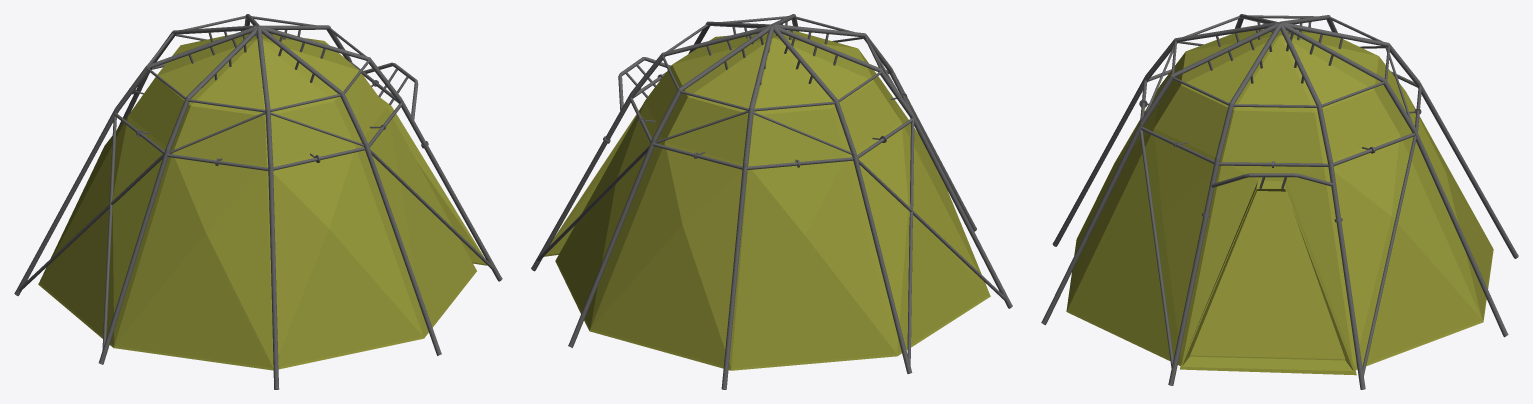
Rendered from tent.fbx.
3 renders of one model, left to right at view 1: azimuth 30°, elevation 25°; view 2: azimuth 150°, elevation 25°; view 3: azimuth 270°, elevation 25°, orthographic. The views are drawn at different scales.
Parts seen in each view (by area): view 1: pCylinder1, polySurface68; view 2: pCylinder1, polySurface68; view 3: pCylinder1, polySurface68.
Part boxes in pixels (bbox=[...]): pCylinder1: bbox=[38, 33, 487, 370]; polySurface68: bbox=[14, 14, 502, 389]; pCylinder1: bbox=[544, 30, 990, 370]; polySurface68: bbox=[531, 14, 1012, 389]; pCylinder1: bbox=[1066, 29, 1493, 375]; polySurface68: bbox=[1041, 14, 1518, 389].
Bounding box in the file's own units: 16.38 × 10.31 × 16.58.
